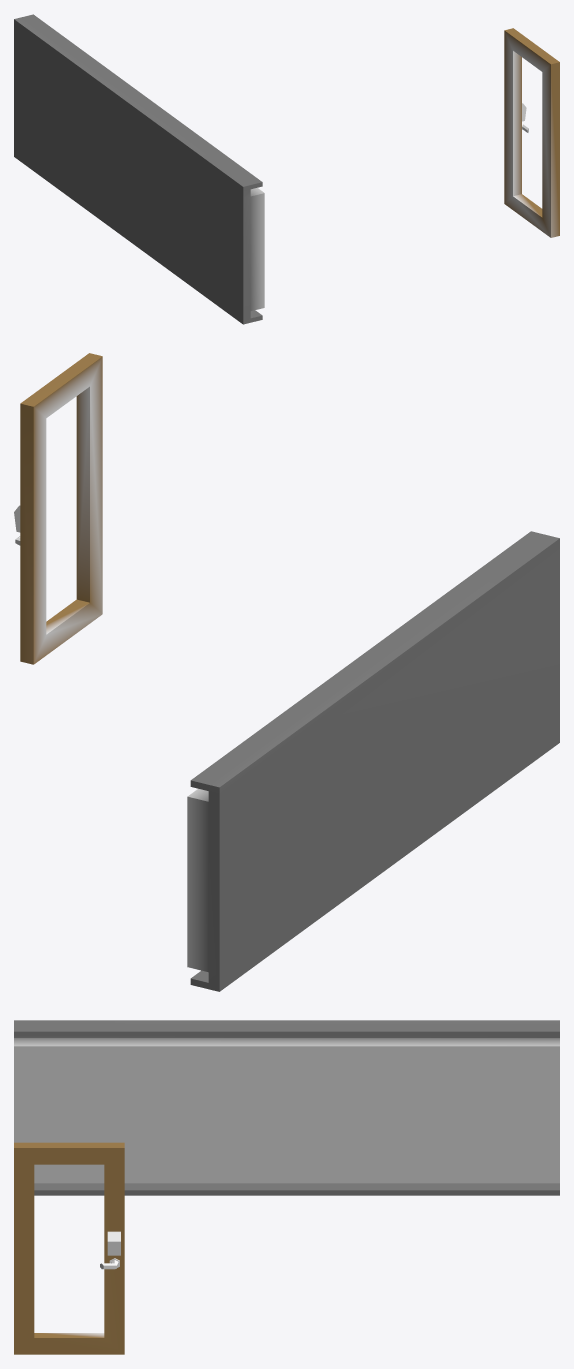
File: beacom1.fbx
3 renders of one model, top to bottom at view 1: azimuth 30°, elevation 25°; view 2: azimuth 150°, elevation 25°; view 3: azimuth 270°, elevation 25°, orthographic. The views are drawn at different scales.
Visible parts, largest first — view 1: Cube, Cube.001; view 2: Cube, Cube.001; view 3: Cube, Cube.001.
Boxes of the visible parts, x1,y1,x2,y2 form: Cube: [14, 14, 264, 324]; Cube.001: [504, 28, 559, 237]; Cube: [187, 531, 559, 991]; Cube.001: [14, 353, 102, 664]; Cube: [14, 1020, 559, 1195]; Cube.001: [14, 1142, 124, 1354].
Size of the model in its own units: 803 by 439 by 985.
